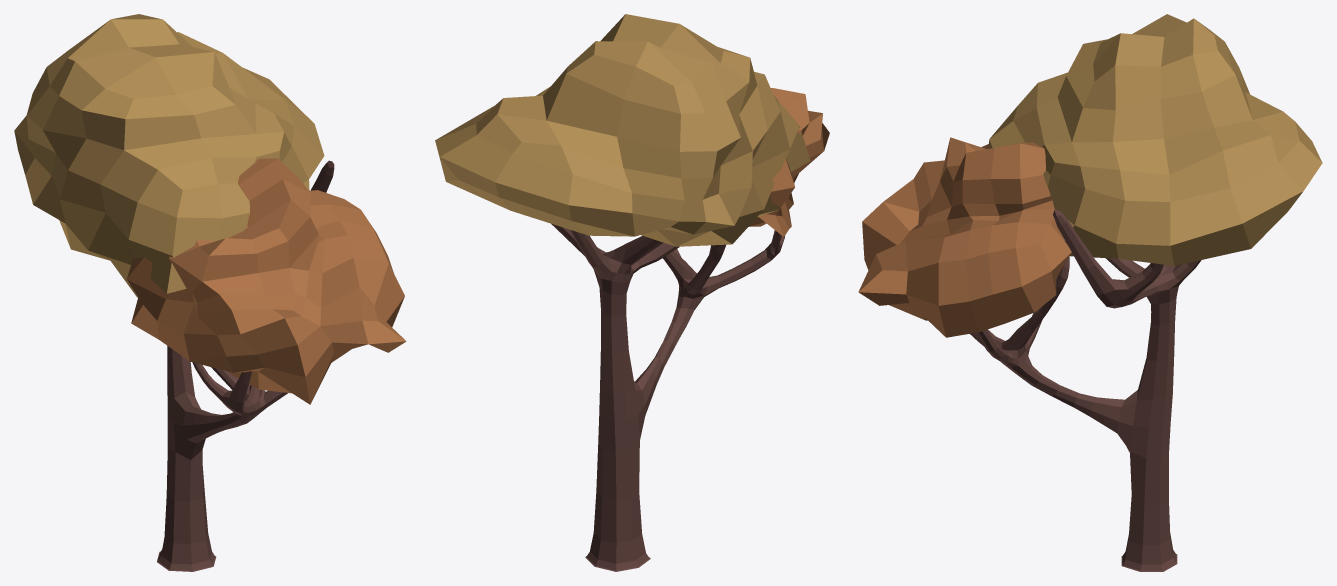
File: trees_autumn_tree.63f7b8d1.glb
3 renders of one model, left to right at view 1: azimuth 30°, elevation 25°; view 2: azimuth 150°, elevation 25°; view 3: azimuth 270°, elevation 25°, orthographic. The views are drawn at different scales.
Visible parts, largest first — view 1: CommonTree_Autumn_2; view 2: CommonTree_Autumn_2; view 3: CommonTree_Autumn_2.
Boxes of the visible parts, bbox=[...] form: CommonTree_Autumn_2: bbox=[14, 14, 406, 571]; CommonTree_Autumn_2: bbox=[435, 14, 829, 571]; CommonTree_Autumn_2: bbox=[858, 14, 1322, 571].
Bounding box in the file's own units: 1.66 × 3.12 × 2.54.
